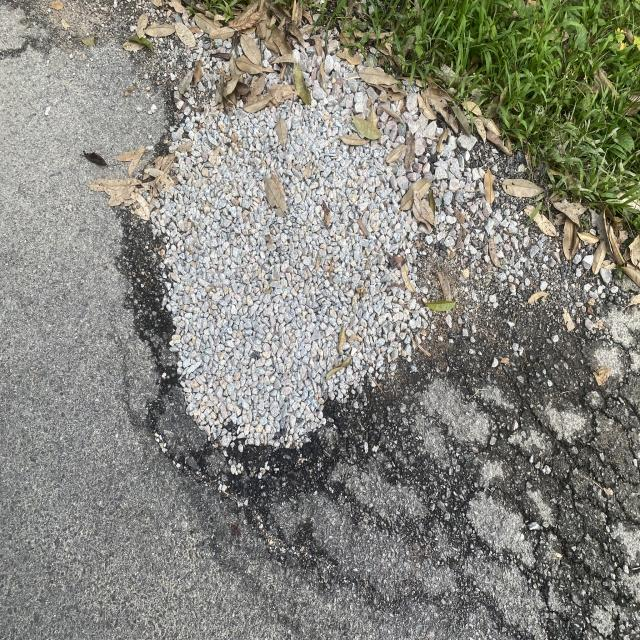pothole: (75, 116, 443, 573)
